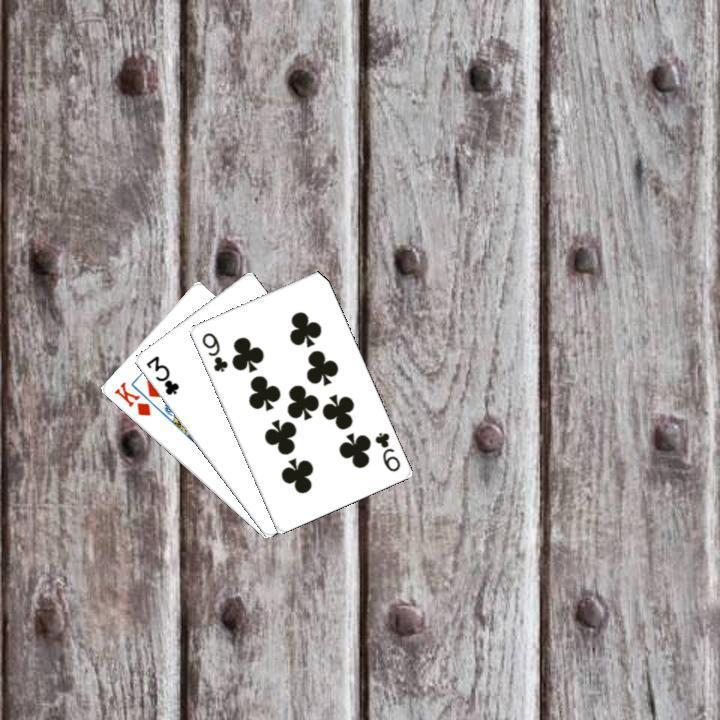3: (141, 351, 181, 397)
9: (197, 328, 230, 374), (370, 428, 402, 474)
K: (109, 377, 153, 418)
